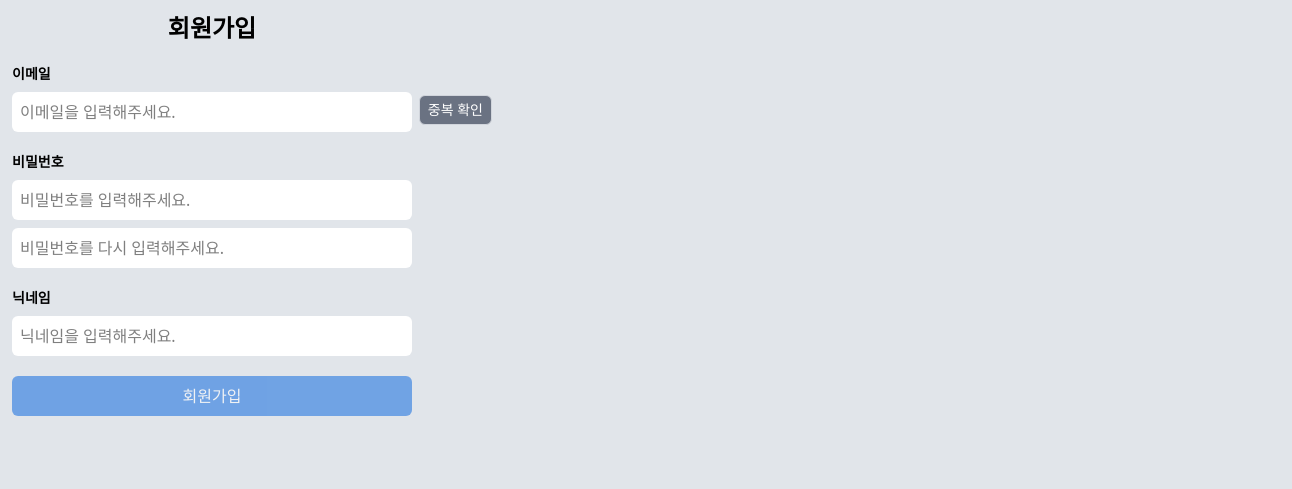
Test case: SignupForm › 회원가입 유효성 검사 테스트 › SU-05: 비밀번호와 비밀번호 확인 불일치
Type "test@test.com" into the field with placeholder "이메일을 입력해주세요." at point(212, 112), box x1=12 y1=92 x2=412 y2=132
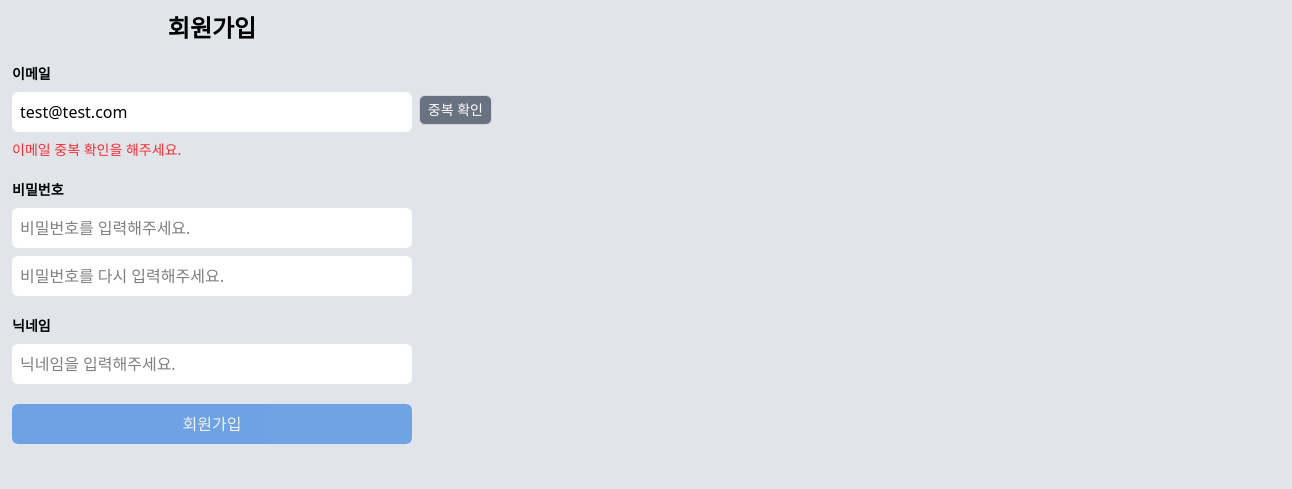
Type "test1234" into the password field with placeholder "비밀번호를 입력해주세요." at point(212, 228), box x1=12 y1=208 x2=412 y2=248
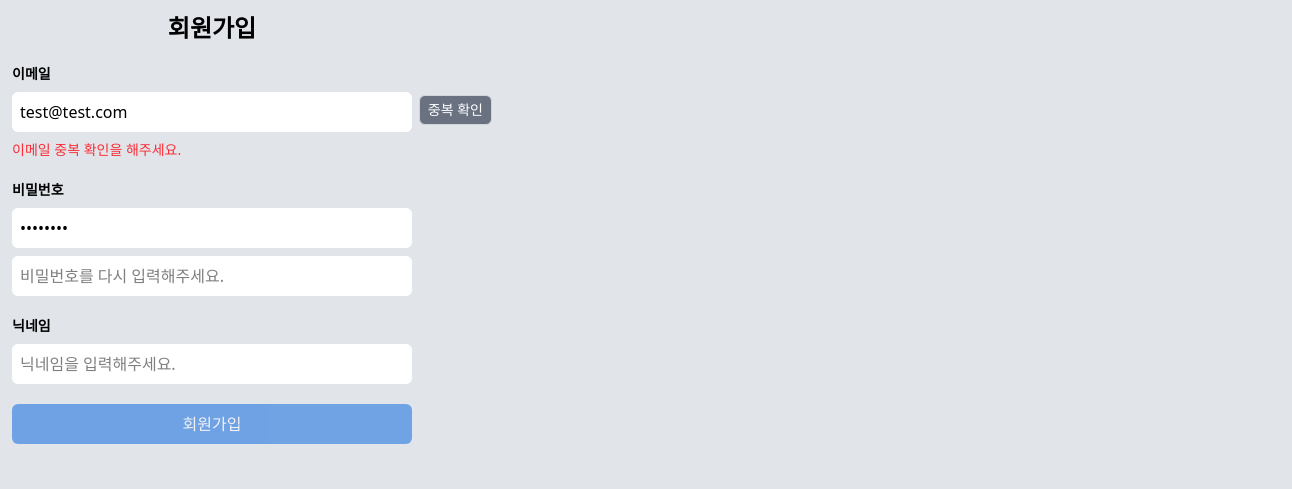
Type "test12345" into the password field with placeholder "비밀번호를 다시 입력해주세요." at point(212, 276), box x1=12 y1=256 x2=412 y2=296
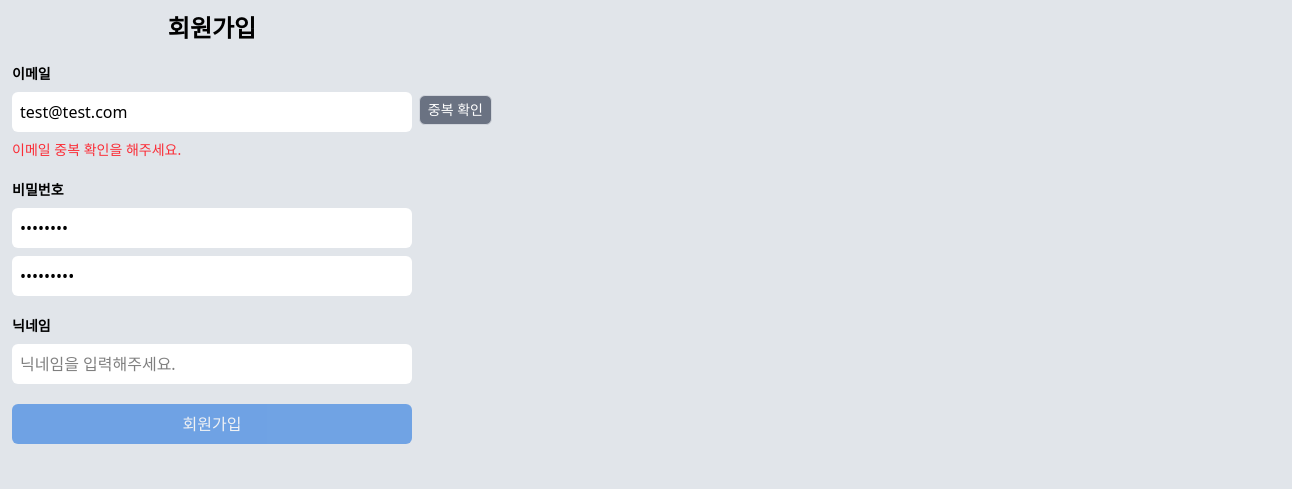
Click the element showing "회원가입 이메일 중복 확인 이메일 중복 확인을 해주세요. 비밀번호 닉네임 회원가입" at point(652, 228), box x1=12 y1=12 x2=1291 y2=444
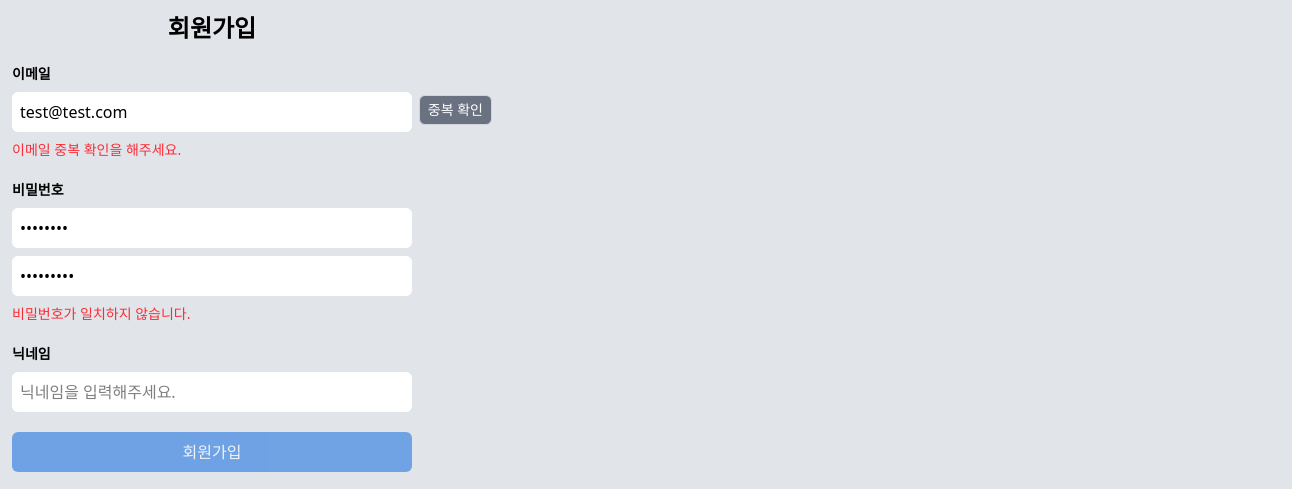
Check: the button "회원가입" is disabled, box x1=12 y1=432 x2=412 y2=472
Check: the text "비밀번호가 일치하지 않습니다." is shown, box x1=12 y1=304 x2=190 y2=323
